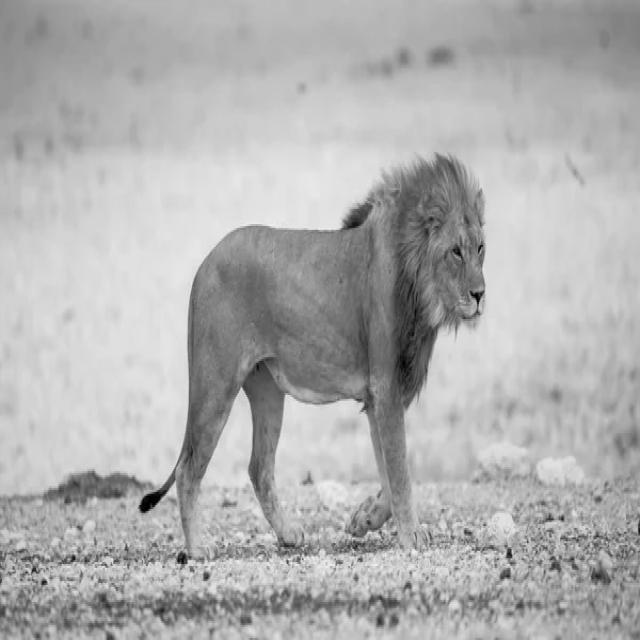Animal: (141, 154, 484, 557)
